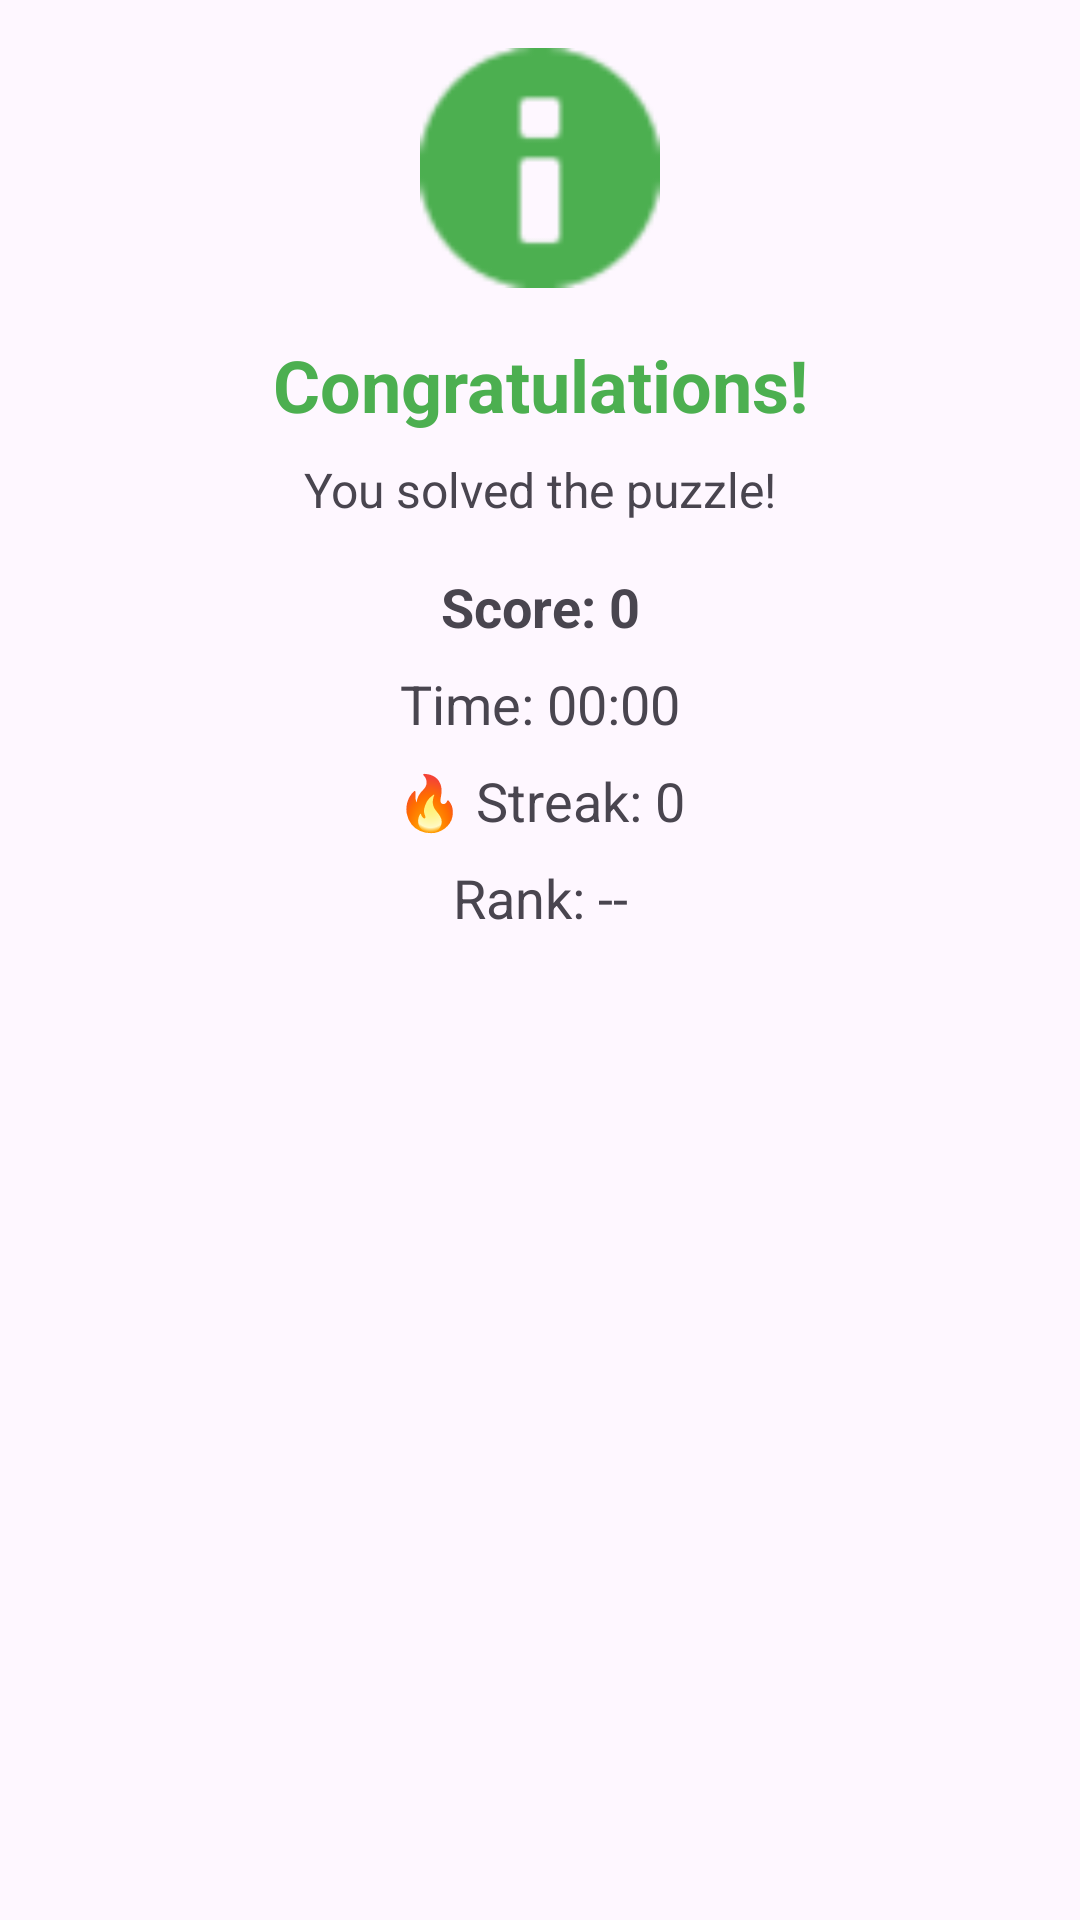

Screen size 1080px×1920px. Icon name, then its center in pixels as (x,y):
info: (540,168)
